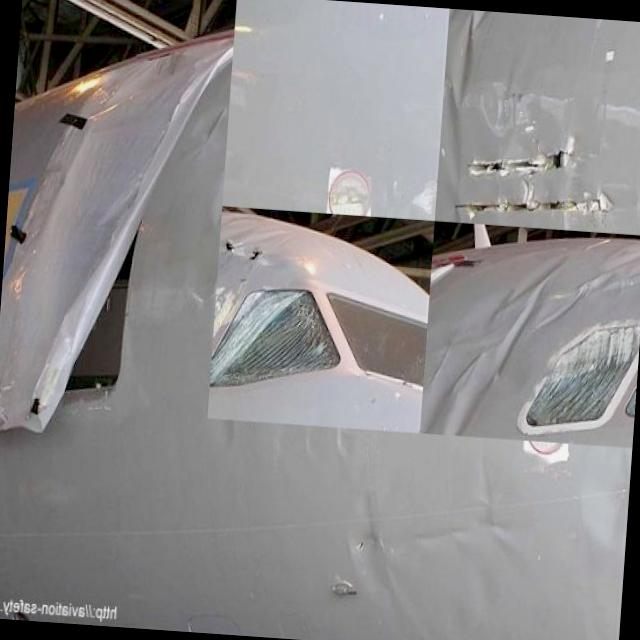crack: (450, 127, 622, 228)
